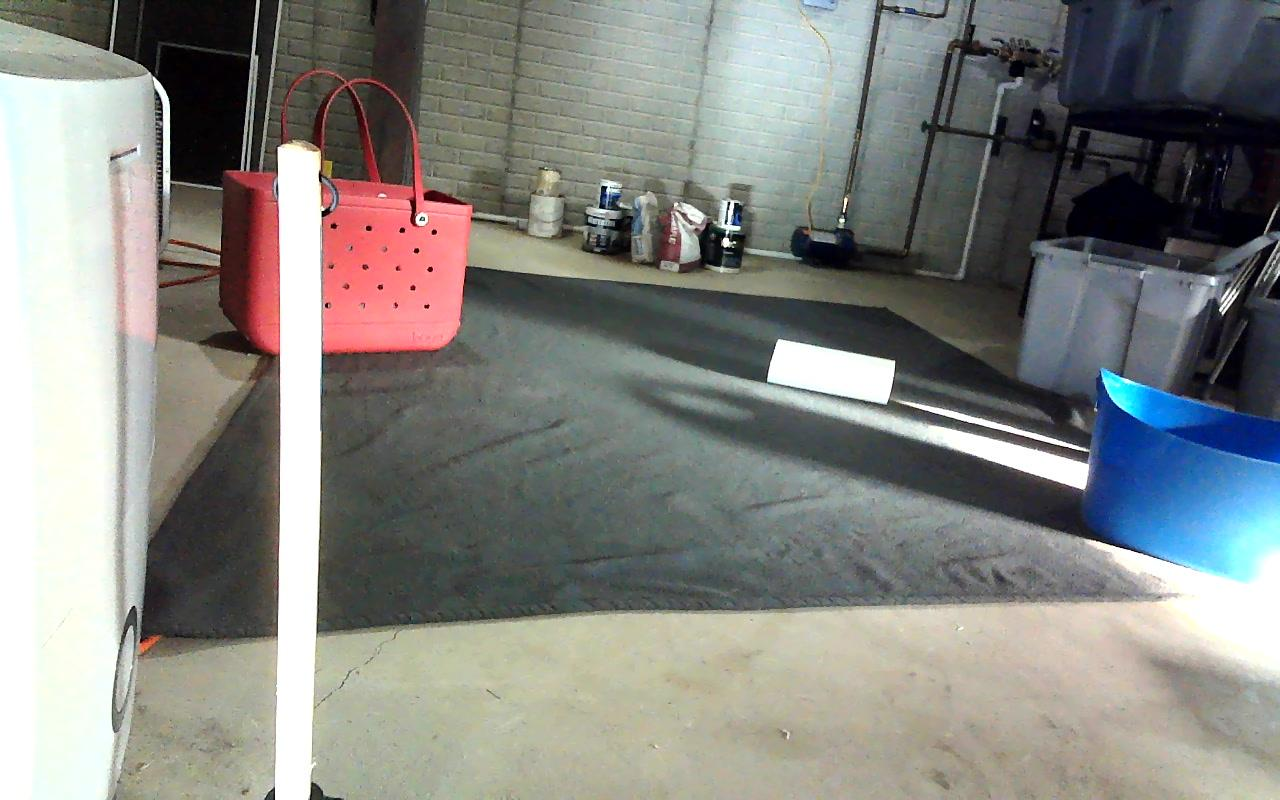coral: (766, 339, 897, 406)
